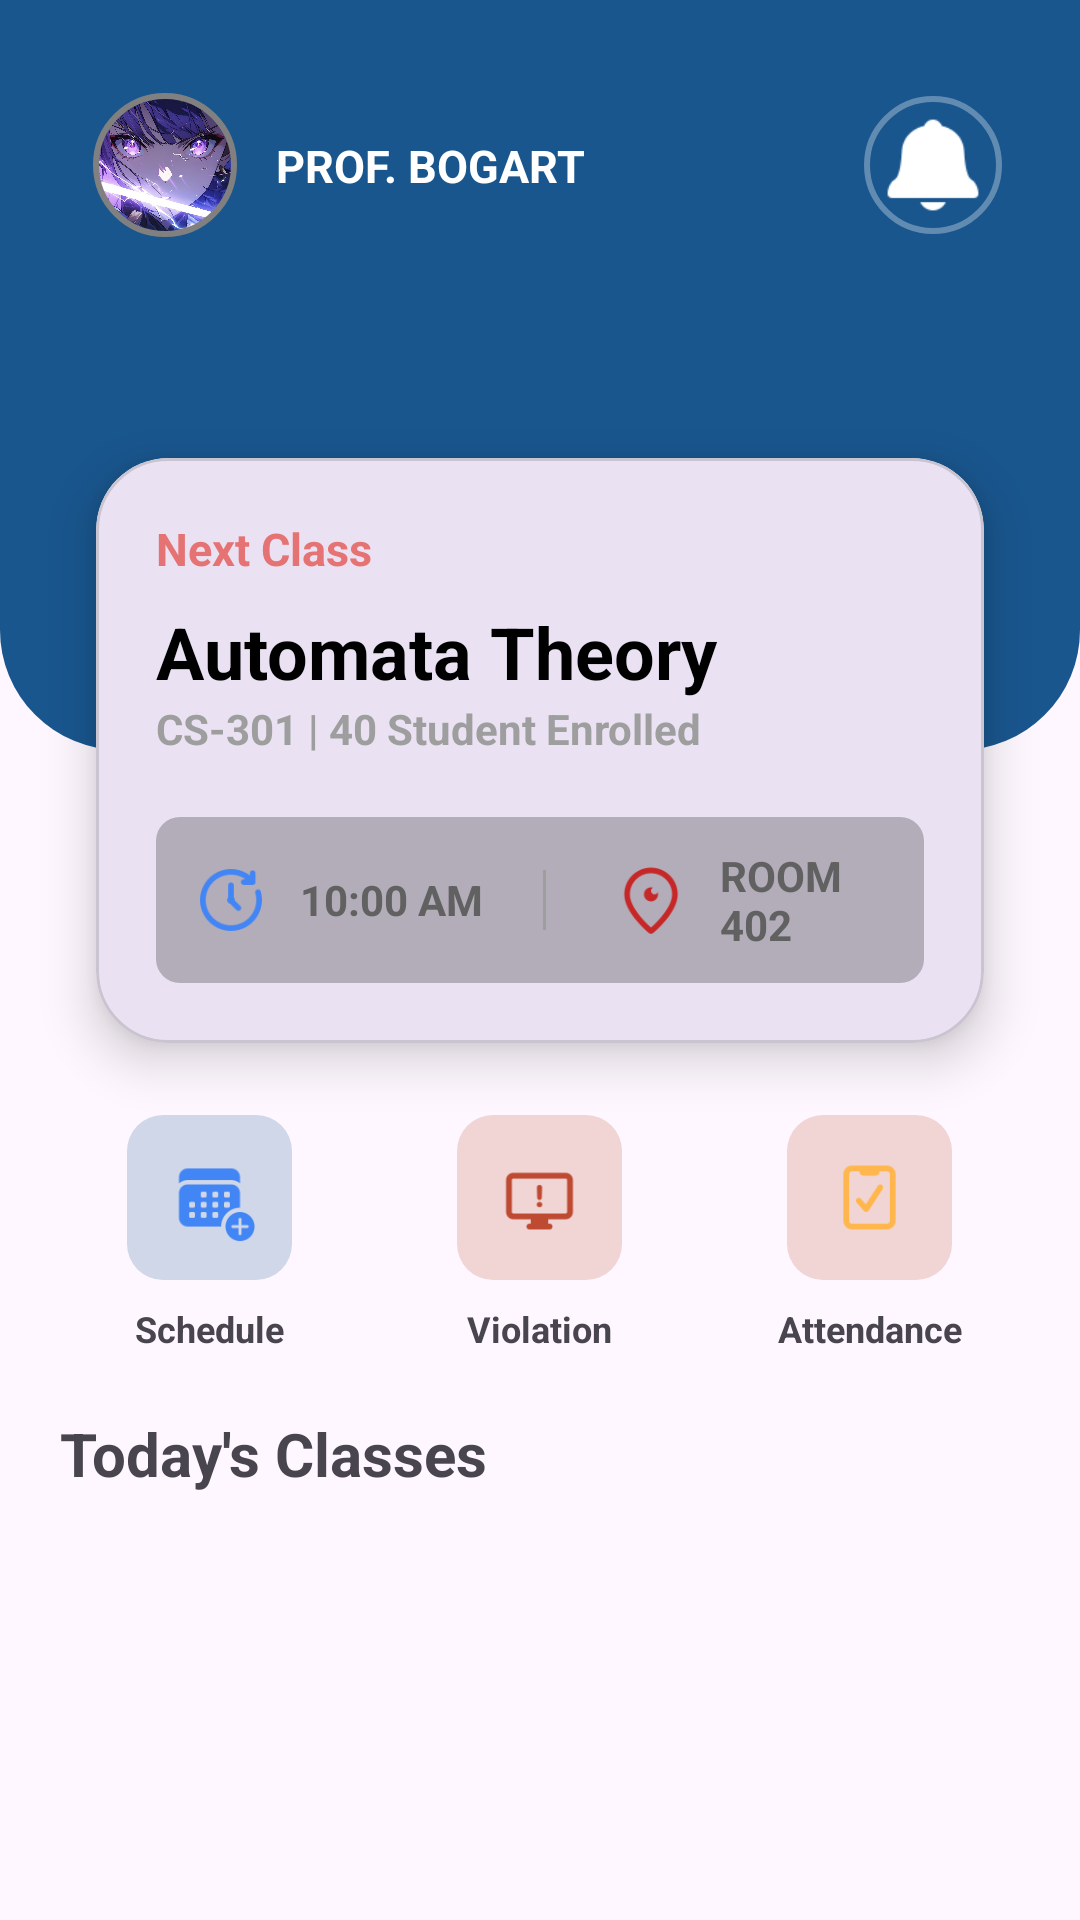

Screen size 1080px×1920px. Icon name, then its box in pixels as (x1, y1, x2, y2):
calendar plus: (127, 1115, 292, 1280)
inspection: (787, 1115, 952, 1280)
notification: (864, 96, 1002, 234)
system report: (457, 1115, 622, 1280)
visit: (624, 867, 678, 934)
